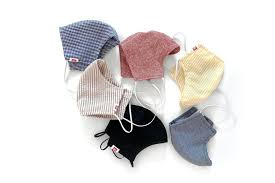cloth_mask: (169, 105, 238, 170)
